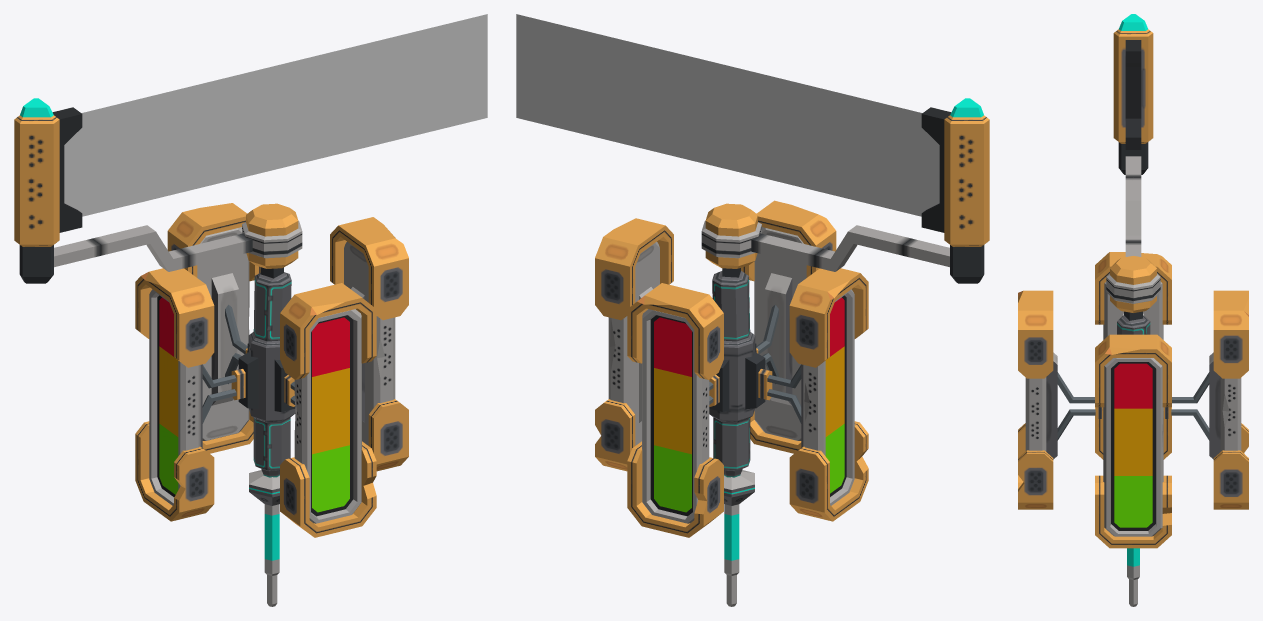
Rendered from SM_Prop_Traffic_Lights_02.fbx.
The picture shows the model from 3 angles, left to right: view 1: azimuth 30°, elevation 25°; view 2: azimuth 150°, elevation 25°; view 3: azimuth 270°, elevation 25°; orthographic projection. The views are drawn at different scales.
Visible parts, largest first — view 1: SM_Prop_Traffic_Lights_02, SM_Prop_Traffic_Lights_02_Screen_01; view 2: SM_Prop_Traffic_Lights_02, SM_Prop_Traffic_Lights_02_Screen_01; view 3: SM_Prop_Traffic_Lights_02.
Boxes of the visible parts, x1,y1,x2,y2 form: SM_Prop_Traffic_Lights_02: (14,98,408,606); SM_Prop_Traffic_Lights_02_Screen_01: (64,14,487,216); SM_Prop_Traffic_Lights_02: (595,98,989,606); SM_Prop_Traffic_Lights_02_Screen_01: (516,14,939,216); SM_Prop_Traffic_Lights_02: (1018,14,1248,606).
Size of the model in its own units: 292 by 331 by 143.
